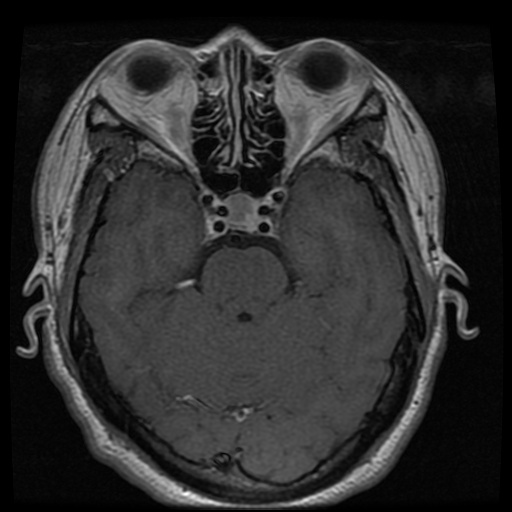pituitary: (227, 194, 258, 231)
